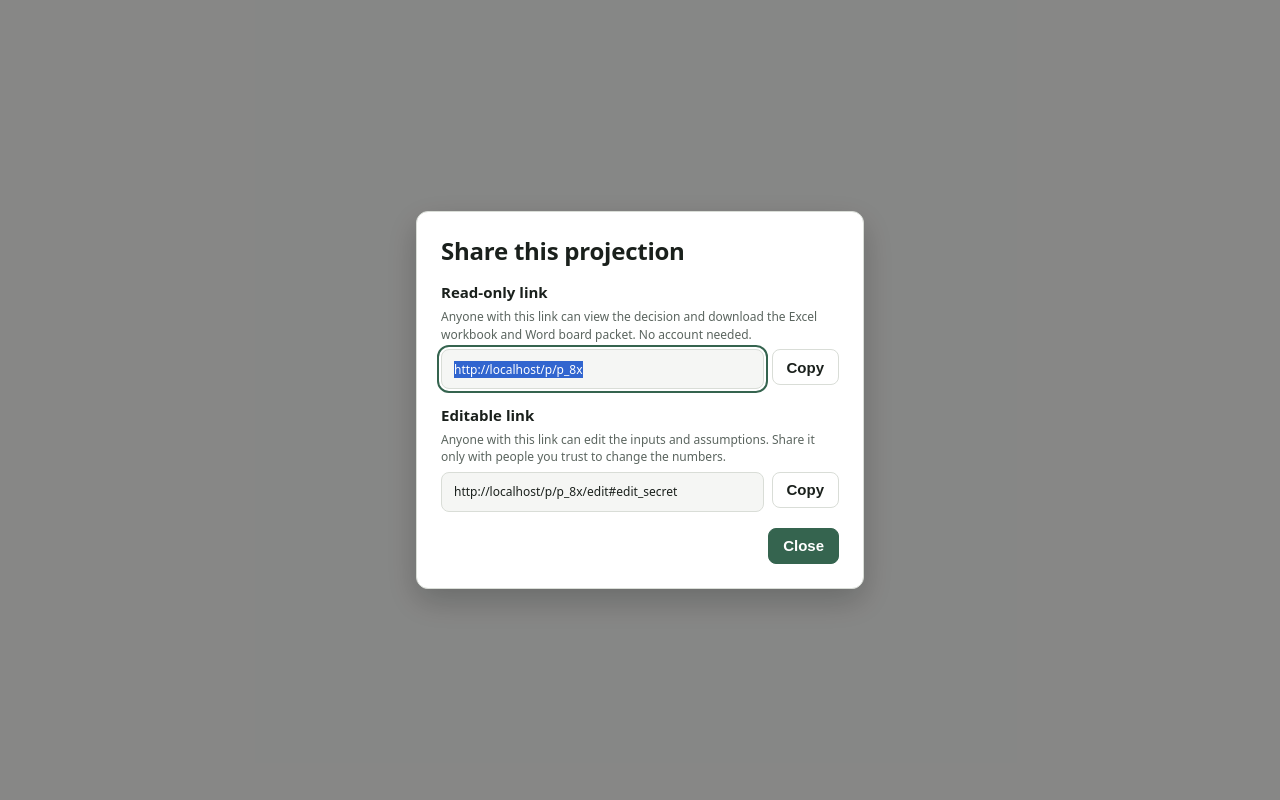
ShareModal — copy › copies the read-only link and toasts on success
This screenshot has width=1280, height=800.
Click the button with test id "share-copy-readonly": [805, 367] box [772,349,839,385]
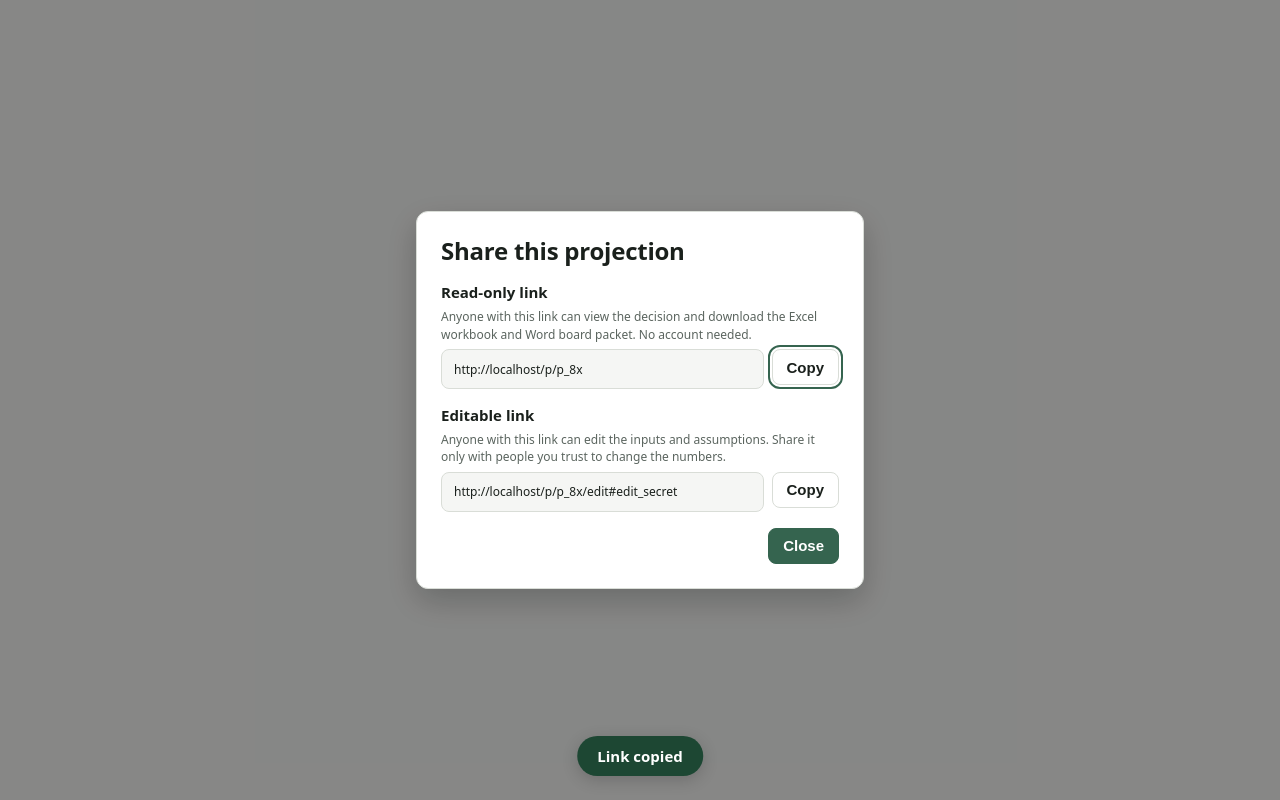
expect the message with test id "toast" reads "Link copied": met, box [597,746,683,766]
